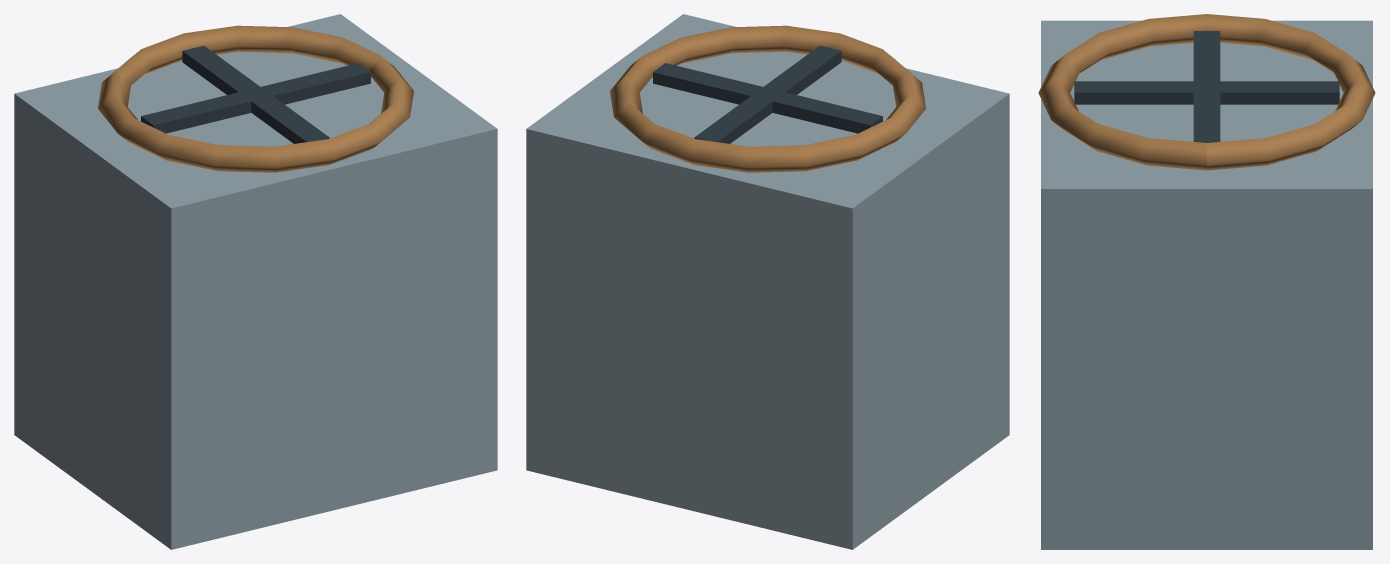
File: cooler.lod2.glb
The picture shows the model from 3 angles, left to right: view 1: azimuth 30°, elevation 25°; view 2: azimuth 150°, elevation 25°; view 3: azimuth 270°, elevation 25°; orthographic projection. The views are drawn at different scales.
Visible parts, largest first — view 1: structure, fan; view 2: structure, fan; view 3: structure, fan.
Boxes of the visible parts, x1=… form: structure: x1=14, y1=14, x2=497, y2=549; fan: x1=141, y1=45, x2=370, y2=143; structure: x1=526, y1=14, x2=1009, y2=549; fan: x1=653, y1=45, x2=882, y2=143; structure: x1=1038, y1=14, x2=1375, y2=549; fan: x1=1074, y1=31, x2=1339, y2=142.
Bounding box in the file's own units: 3 × 3.22 × 2.54.
